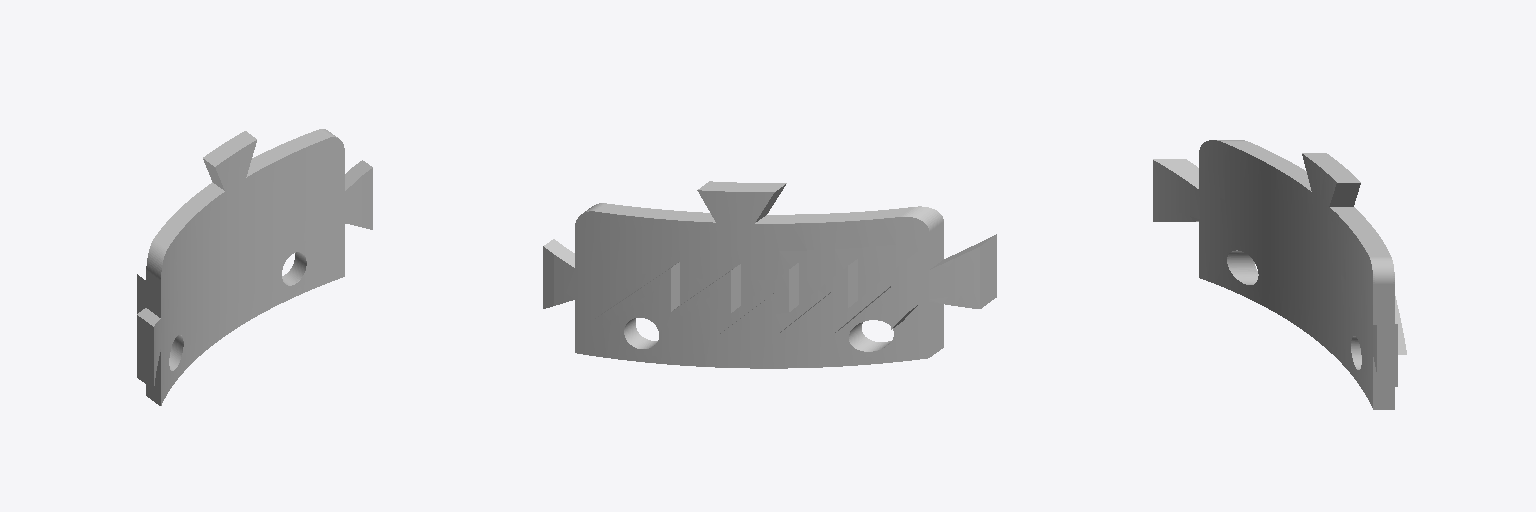
The model's file is mini tapita.obj.
3 views of the same model, side by side, from view 1: azimuth 30°, elevation 25°; view 2: azimuth 150°, elevation 25°; view 3: azimuth 270°, elevation 25° (orthographic).
Size of the model in its own units: 55 by 28 by 36.65.